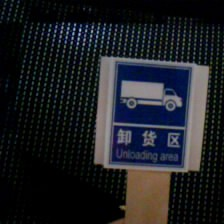unload: (108, 56, 189, 167)
